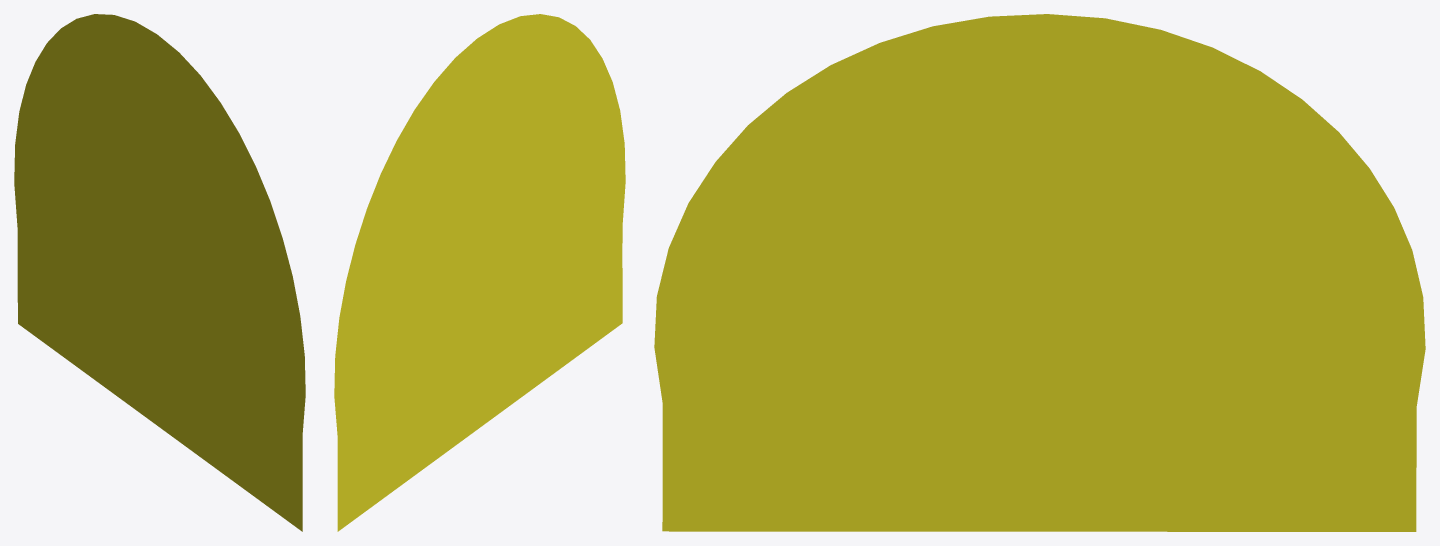
Rendered from Door.fbx.
3 renders of one model, left to right at view 1: azimuth 30°, elevation 25°; view 2: azimuth 150°, elevation 25°; view 3: azimuth 270°, elevation 25°, orthographic. The views are drawn at different scales.
Visible parts, largest first — view 1: Door; view 2: Door; view 3: Door.
Part boxes in pixels (box(x1,y1,x2,y2)): Door: box(14, 14, 305, 531); Door: box(334, 14, 625, 531); Door: box(654, 14, 1425, 531).
Size of the model in its own units: 0.0604 by 159 by 215.
